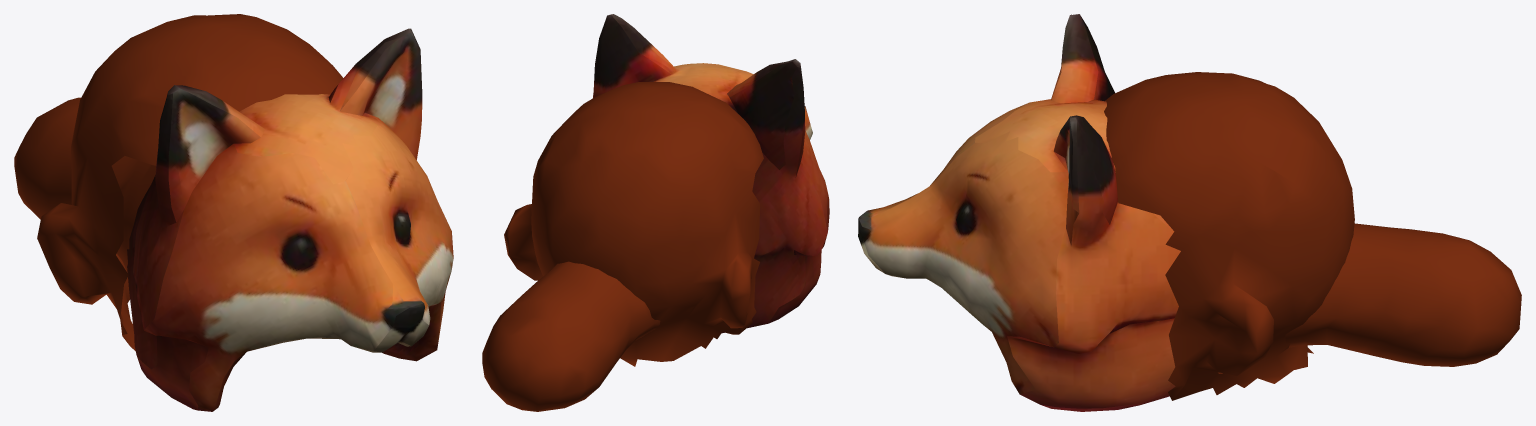
The model's file is red-fox.glb.
3 views of the same model, side by side, from view 1: azimuth 30°, elevation 25°; view 2: azimuth 150°, elevation 25°; view 3: azimuth 270°, elevation 25° (orthographic). The views are drawn at different scales.
Parts seen in each view (by area): view 1: geometry_0, HoodAnatomicalLining; view 2: HoodAnatomicalLining, geometry_0; view 3: geometry_0, HoodAnatomicalLining.
Boxes of the visible parts, x1=… form: geometry_0: x1=14, y1=28, x2=453, y2=411; HoodAnatomicalLining: x1=37, y1=14, x2=343, y2=350; HoodAnatomicalLining: x1=504, y1=82, x2=763, y2=366; geometry_0: x1=482, y1=14, x2=829, y2=411; geometry_0: x1=858, y1=14, x2=1521, y2=411; HoodAnatomicalLining: x1=1104, y1=72, x2=1354, y2=400.
Bounding box in the file's own units: 0.4602 × 0.456 × 0.9165.
Materials: 2 (1 with a texture image).
